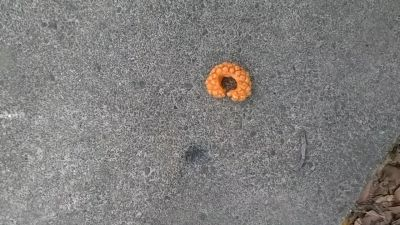eggs: (207, 60, 254, 101)
